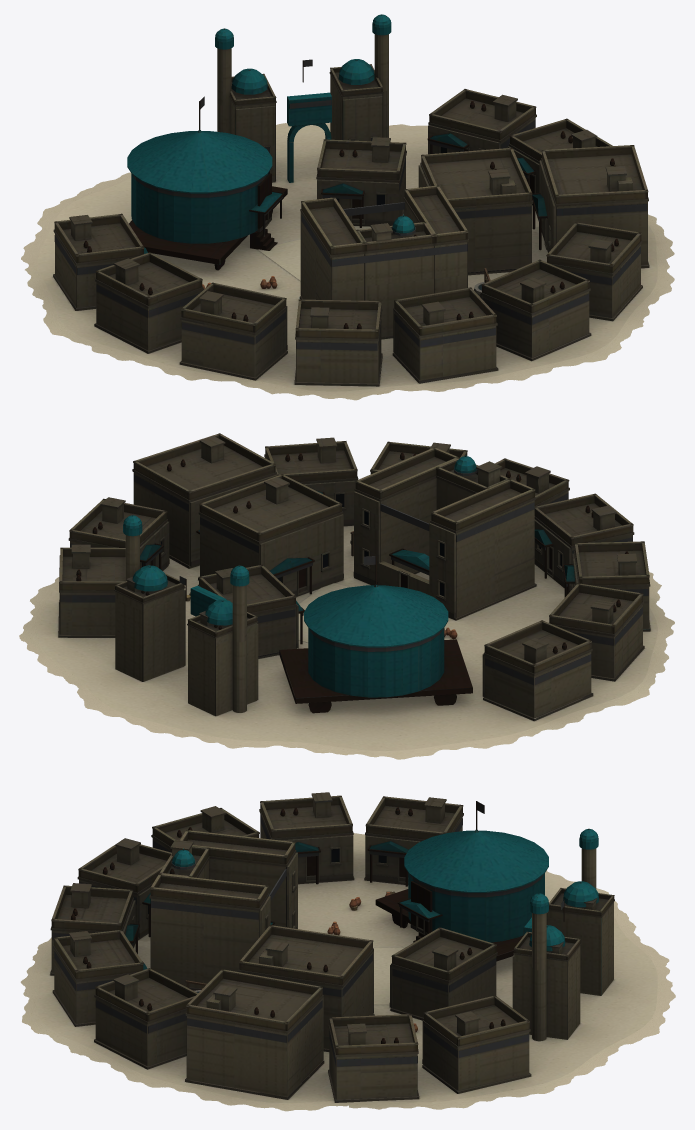
File: kingdoms-town-medium-b-steppe.glb
3 views of the same model, one above another, from view 1: azimuth 30°, elevation 25°; view 2: azimuth 150°, elevation 25°; view 3: azimuth 270°, elevation 25° (orthographic).
Parts seen in each view (by area): view 1: LOD0; view 2: LOD0; view 3: LOD0.
Part boxes in pixels (<box>): LOD0: <box>21,14,674,400</box>; LOD0: <box>19,433,674,759</box>; LOD0: <box>20,792,675,1111</box>.
Size of what is drawn, in the model's own units: 5.98 by 1.45 by 5.93.
Materials: 3 (3 with a texture image).
